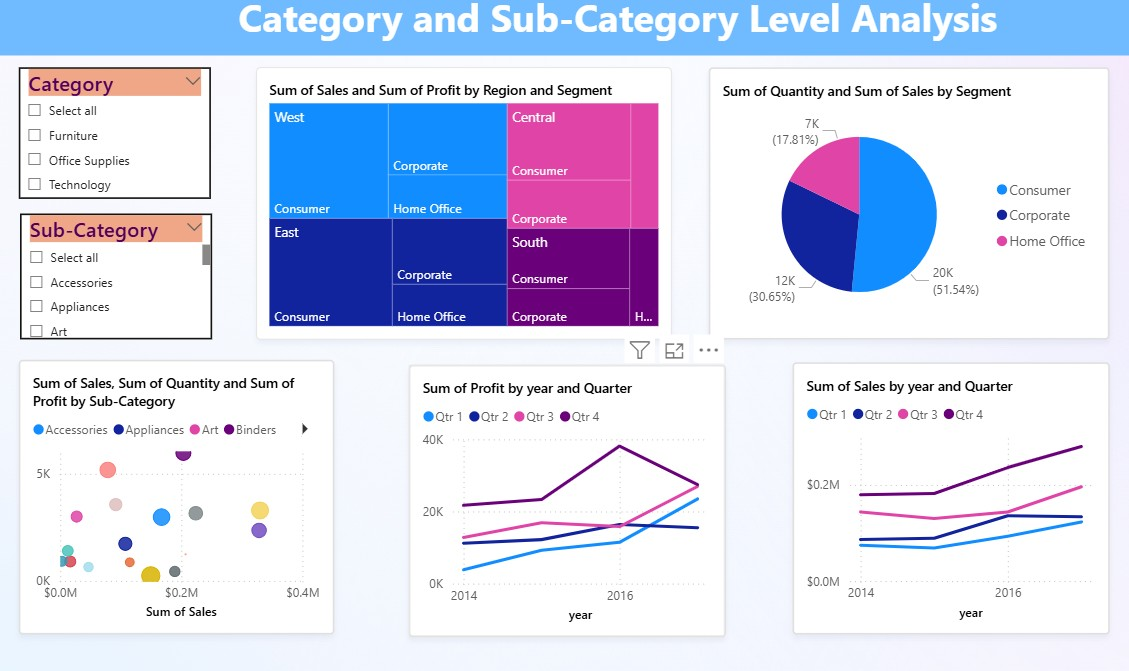

Layout of this report page (visuals, bound fields, positions):
{"tool":"powerbi","page":{"name":"category and subcategory","canvas":[1280,720],"ordinal":2},"visuals":[{"type":"textbox","box":[34.4,0,1218.9,67.8],"z":0},{"type":"slicer","fields":{"Values":["Orders.Category"]},"box":[57.8,78.9,187.8,128.9],"z":1000},{"type":"slicer","fields":{"Values":["Orders.Sub-Category"]},"box":[58.9,222.2,187.8,123.3],"z":2000},{"type":"treemap","fields":{"Group":["Orders.Region"],"Details":["Orders.Segment"],"Values":["Sum(Orders.Sales)"]},"box":[290,78.9,406.7,266.7],"z":3000},{"type":"pieChart","fields":{"Category":["Orders.Segment"],"Y":["Sum(Orders.Quantity)"]},"box":[732.2,78.9,392.2,266.7],"z":4000},{"type":"scatterChart","fields":{"X":["Sum(Orders.Sales)"],"Y":["Sum(Orders.Quantity)"],"Series":["Orders.Sub-Category"],"Size":["Sum(Orders.Profit)"]},"box":[57.8,365.6,308.9,268.9],"z":5000},{"type":"lineChart","fields":{"Category":["Orders.year"],"Series":["Orders.Quarter"],"Y":["Sum(Orders.Profit)"]},"box":[438.9,370,310,266.7],"z":6000},{"type":"lineChart","fields":{"Category":["Orders.year"],"Series":["Orders.Quarter"],"Y":["Sum(Orders.Sales)"]},"box":[814.4,367.8,310,266.7],"z":7000}]}

Visuals, with their boxes on the page's 1280x720 design canvas (x1, y1, x2, y2). These are canvas units, not pixel positions in the 1129x671 screenshot, which may show the page scaled, cropped or inside an application window:
textbox: [34, 0, 1253, 68]
slicer - Orders.Category: [58, 79, 246, 208]
slicer - Orders.Sub-Category: [59, 222, 247, 346]
treemap - Orders.Region x Orders.Segment: [290, 79, 697, 346]
pieChart - Orders.Segment x Sum(Orders.Quantity): [732, 79, 1124, 346]
scatterChart - Sum(Orders.Sales) x Sum(Orders.Quantity): [58, 366, 367, 634]
lineChart - Orders.year x Orders.Quarter: [439, 370, 749, 637]
lineChart - Orders.year x Orders.Quarter: [814, 368, 1124, 634]
